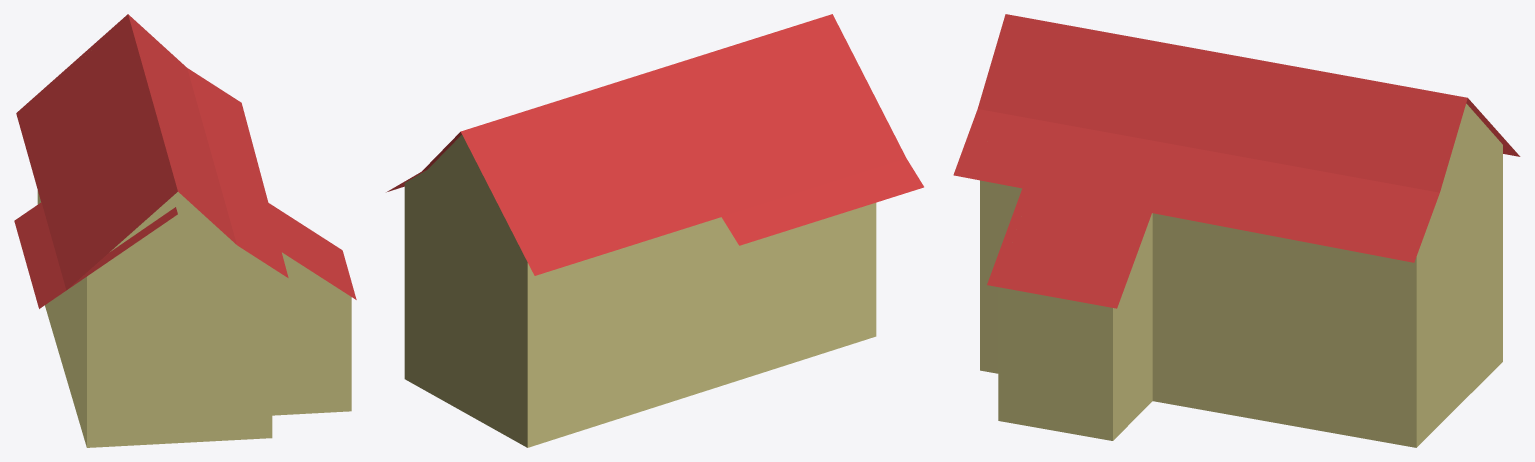
3 renders of one model, left to right at view 1: azimuth 30°, elevation 25°; view 2: azimuth 150°, elevation 25°; view 3: azimuth 270°, elevation 25°, orthographic. The views are drawn at different scales.
Bounding box in the file's own units: 21.23 × 25.3 × 15.16.
